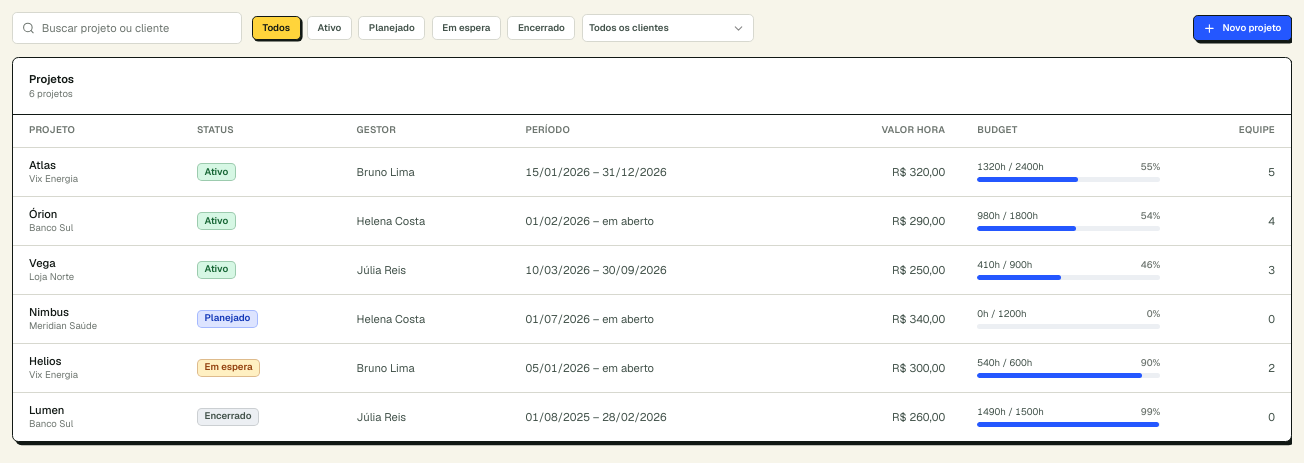
ProjectList › filters by status via the filter chips
Check: the text "Lumen" is shown, box [29,403,64,417]
Click the button "Ativo". click: (329, 28)
box: [307,16,352,40]
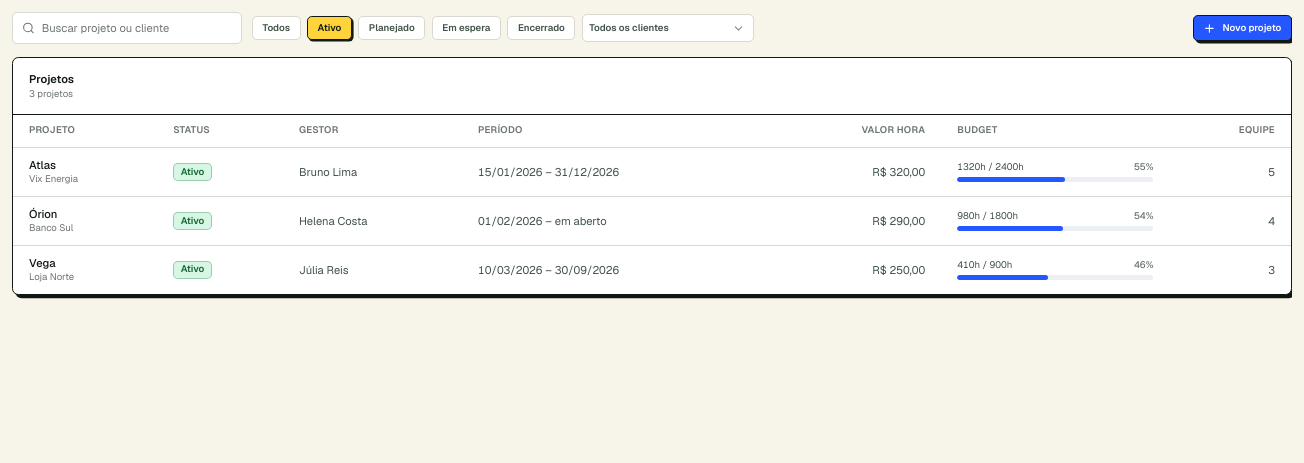
Check: the text "Atlas" is shown, box [29,158,56,172]
Check: the text "Lumen" is gone
